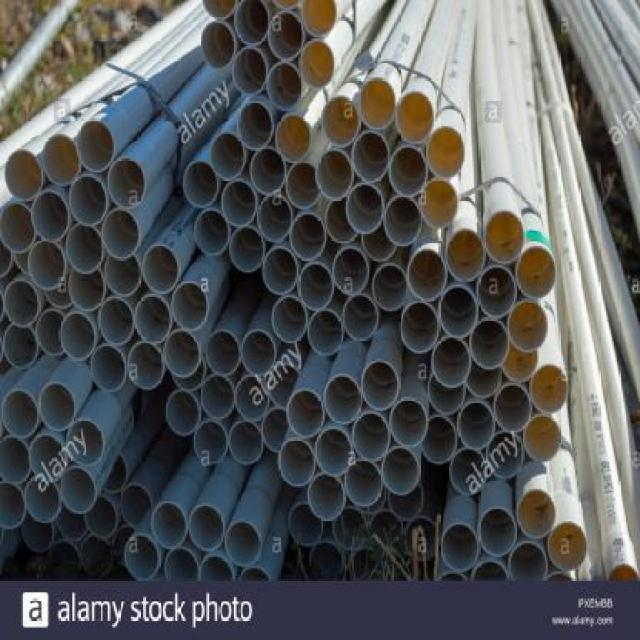pipe: (483, 209, 525, 265), (515, 245, 557, 301), (475, 265, 518, 318), (445, 228, 487, 282), (406, 248, 448, 302), (438, 284, 480, 338), (468, 318, 510, 371), (426, 126, 466, 180), (431, 337, 473, 388), (515, 489, 557, 540), (396, 91, 436, 144), (31, 190, 71, 243), (508, 301, 548, 354), (76, 119, 115, 173), (107, 157, 146, 210), (68, 175, 107, 228), (361, 358, 400, 411), (358, 77, 396, 131), (389, 146, 429, 197), (419, 179, 459, 230), (399, 302, 439, 353), (478, 506, 518, 557), (548, 520, 588, 571), (322, 95, 360, 148), (315, 148, 353, 201), (346, 181, 384, 234), (102, 209, 141, 260), (65, 224, 104, 275), (28, 240, 67, 291), (323, 374, 362, 425), (38, 382, 77, 433), (287, 388, 326, 439), (1, 389, 40, 440), (43, 134, 80, 187), (5, 148, 42, 201), (0, 201, 37, 254), (440, 522, 480, 571), (353, 132, 391, 183), (384, 196, 422, 247), (390, 397, 428, 448), (172, 282, 211, 331), (530, 364, 569, 413), (494, 383, 533, 432), (67, 418, 106, 467), (143, 244, 180, 295), (278, 436, 315, 487), (134, 295, 173, 343), (307, 472, 346, 520), (315, 428, 353, 477), (382, 447, 420, 496), (523, 416, 563, 462), (268, 10, 304, 61), (200, 20, 236, 71), (457, 401, 495, 449), (353, 412, 391, 460), (232, 47, 269, 96), (183, 160, 220, 209), (3, 280, 40, 329), (421, 416, 458, 465), (238, 100, 273, 151), (275, 114, 312, 162), (209, 132, 246, 180), (221, 179, 258, 227), (256, 195, 293, 243), (194, 209, 231, 257), (290, 212, 327, 260), (333, 247, 370, 295), (262, 247, 299, 295), (298, 262, 335, 310), (272, 295, 309, 343), (98, 298, 135, 346), (59, 312, 96, 360), (164, 329, 201, 377), (128, 341, 165, 389), (90, 345, 127, 393), (29, 435, 66, 483), (450, 447, 487, 495), (225, 520, 262, 568), (285, 160, 321, 209), (486, 433, 524, 479), (345, 461, 383, 507), (268, 62, 302, 113), (229, 225, 265, 273), (373, 264, 409, 312), (308, 308, 344, 356), (151, 501, 187, 549), (250, 148, 287, 194), (343, 295, 380, 341), (60, 468, 97, 514), (24, 477, 61, 523), (189, 504, 224, 552), (68, 268, 105, 313), (235, 0, 271, 46), (126, 533, 160, 581), (200, 374, 236, 419), (235, 375, 271, 420), (288, 502, 324, 547), (428, 373, 466, 415), (104, 254, 141, 297), (229, 421, 264, 466), (0, 435, 32, 484), (166, 390, 200, 436), (508, 542, 548, 581), (325, 200, 359, 245), (194, 419, 228, 464), (3, 326, 39, 368), (36, 309, 67, 357), (85, 496, 119, 539), (269, 363, 300, 409), (300, 0, 337, 38), (388, 481, 423, 521), (501, 349, 540, 383), (120, 483, 151, 525), (466, 366, 503, 399), (0, 483, 26, 529), (165, 548, 201, 581), (263, 407, 289, 452), (102, 453, 128, 495), (361, 232, 398, 261), (470, 560, 510, 580)
